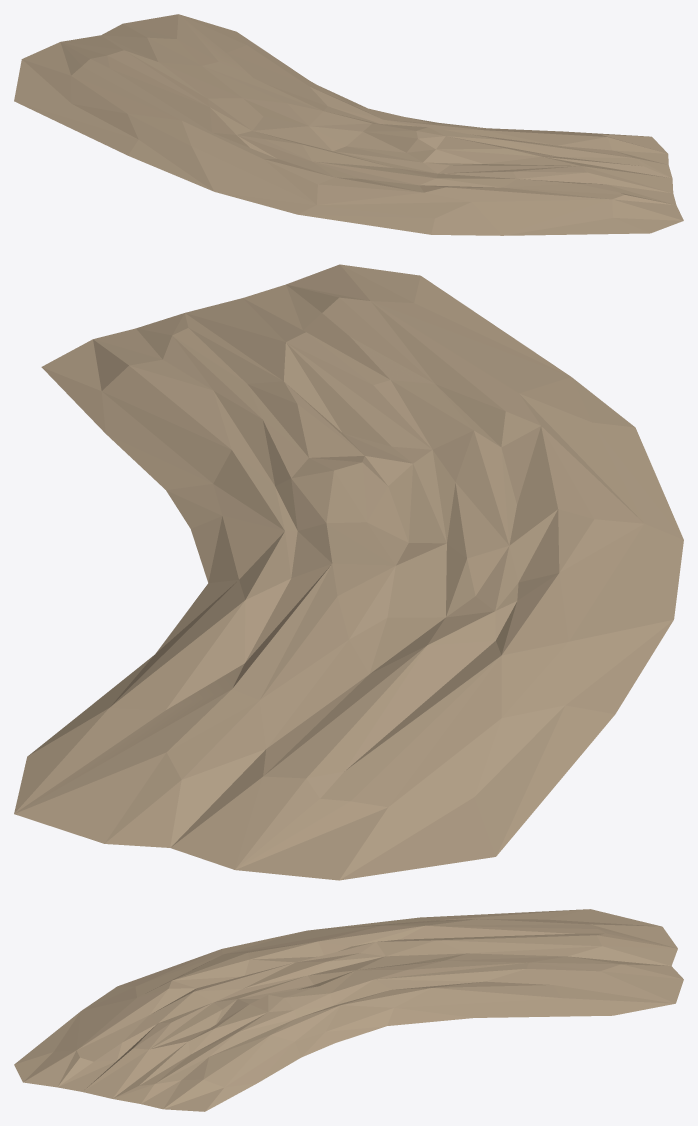
The model's file is SM_Env_DirtRoad_Corner_01.glb.
3 views of the same model, one above another, from view 1: azimuth 30°, elevation 25°; view 2: azimuth 150°, elevation 25°; view 3: azimuth 270°, elevation 25° (orthographic). The views are drawn at different scales.
Visible parts, largest first — view 1: SM_Env_DirtRoad_Corner_01; view 2: SM_Env_DirtRoad_Corner_01; view 3: SM_Env_DirtRoad_Corner_01.
Boxes of the visible parts, left/top/right/bottom form: SM_Env_DirtRoad_Corner_01: left=14, top=14, right=683, bottom=235; SM_Env_DirtRoad_Corner_01: left=14, top=264, right=683, bottom=880; SM_Env_DirtRoad_Corner_01: left=14, top=909, right=683, bottom=1111.
Bounding box in the file's own units: 5.26 × 0.3105 × 7.22.
Materials: 1 (1 with a texture image).
